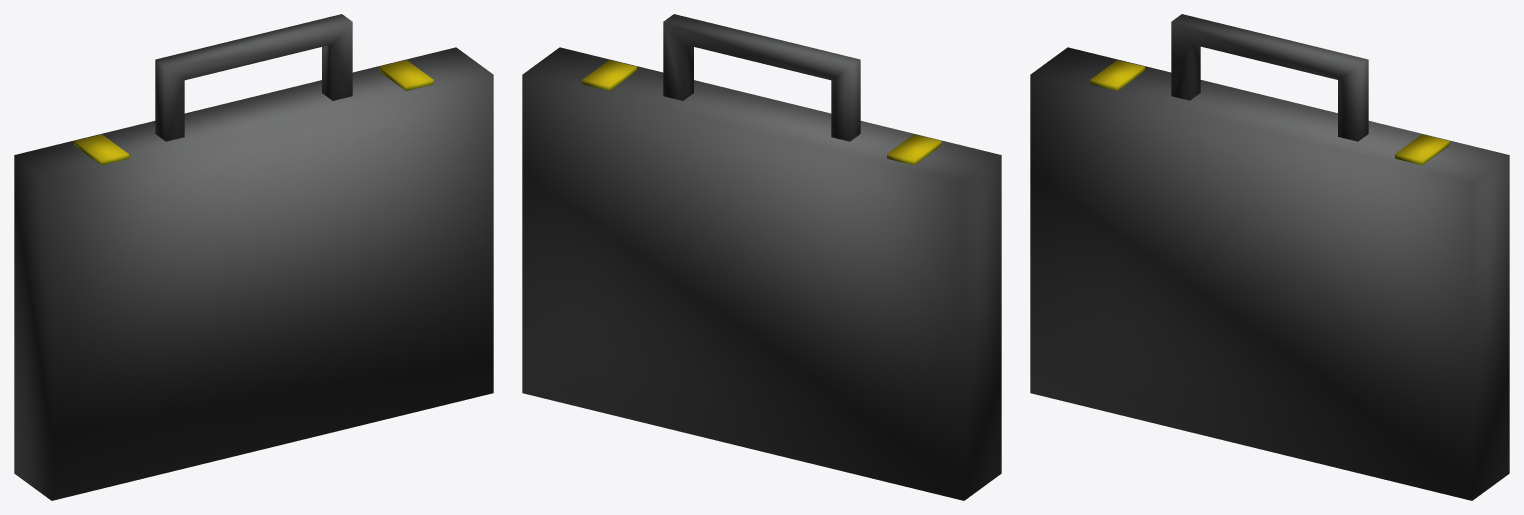
Rendered from Briefcase.fbx.
3 views of the same model, side by side, from view 1: azimuth 30°, elevation 25°; view 2: azimuth 150°, elevation 25°; view 3: azimuth 330°, elevation 25° (orthographic).
Parts seen in each view (by area): view 1: Briefcase; view 2: Briefcase; view 3: Briefcase.
Boxes of the visible parts, x1,y1,x2,y2 form: Briefcase: (14,14,493,500); Briefcase: (522,14,1001,500); Briefcase: (1030,14,1509,500).
Size of the model in its own units: 38.06 by 32.3 by 5.61.
